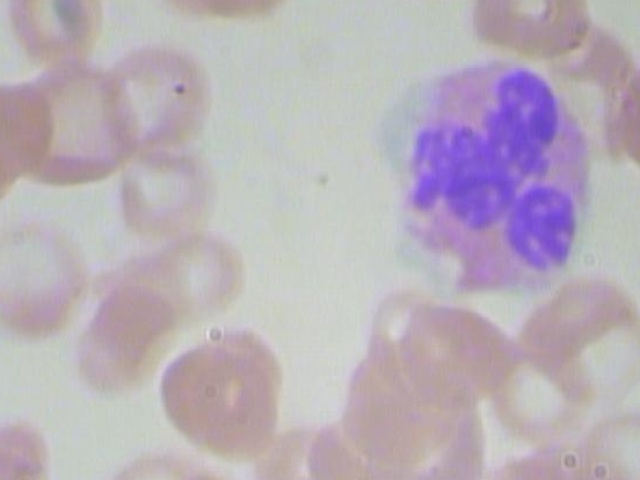Platelets: (590, 0, 637, 8)
WBC: (361, 56, 608, 297)
